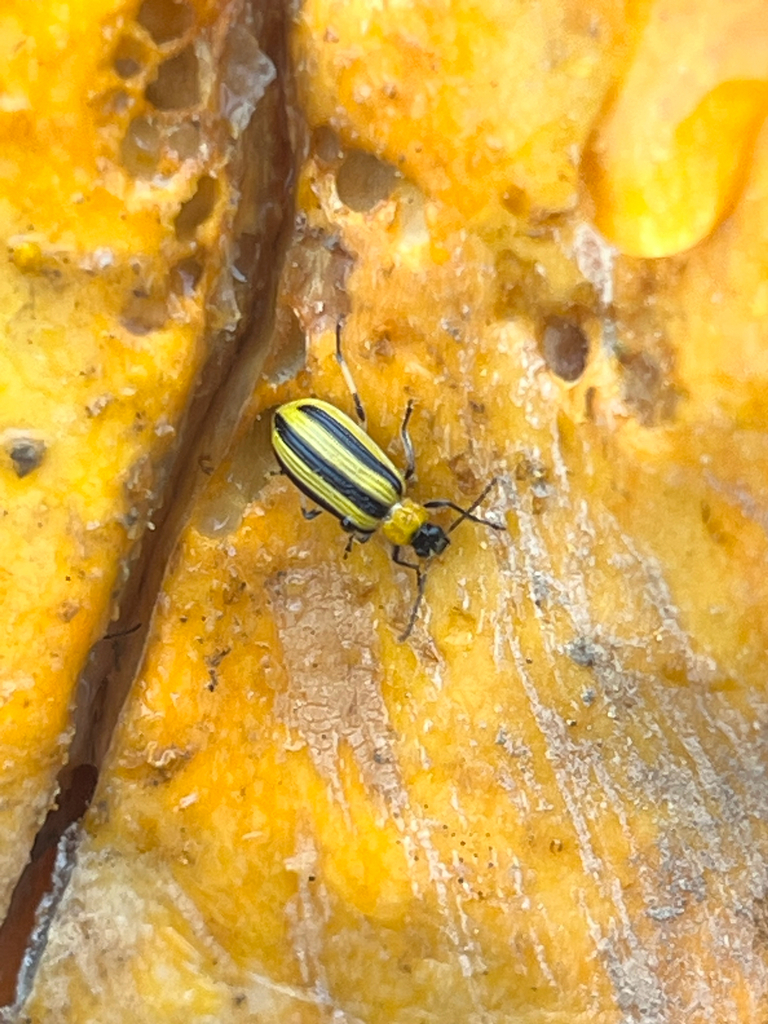potato_beetle: (178, 260, 565, 699)
